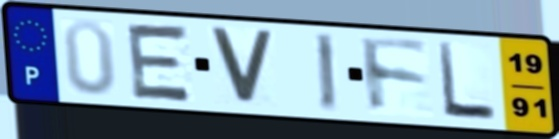0: (60, 17, 119, 98)
E: (124, 21, 196, 105)
F: (356, 34, 433, 117)
I: (311, 30, 340, 115)
L: (434, 40, 500, 124)
V: (206, 24, 278, 109)
